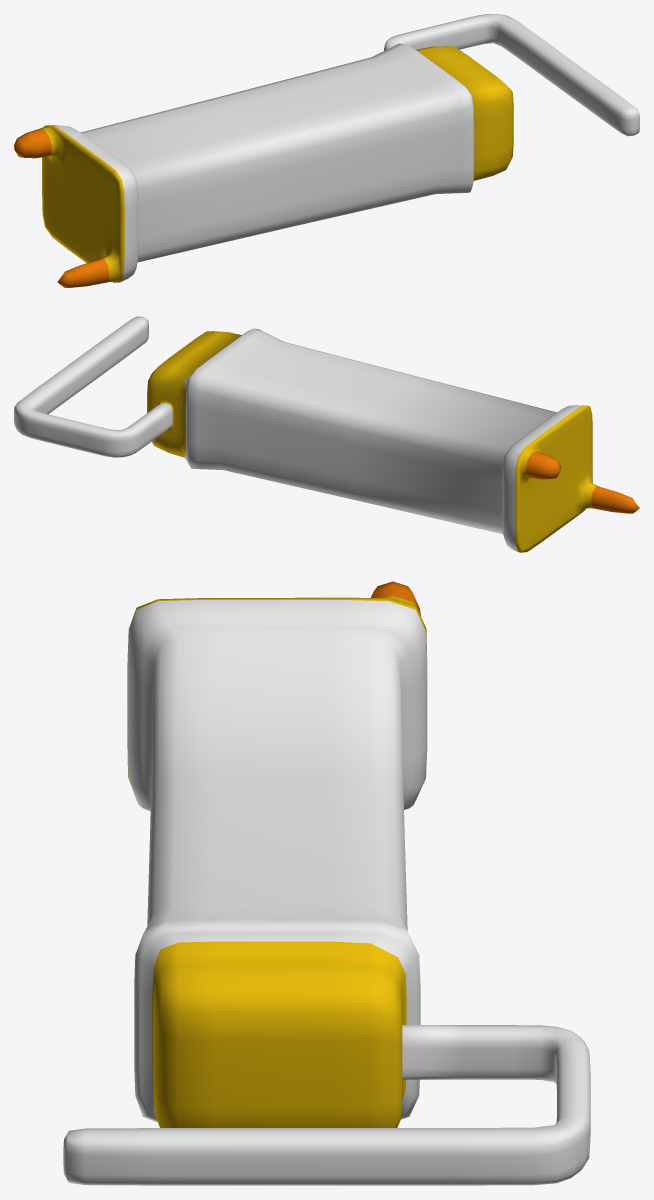
File: Fusible_1.fbx
3 views of the same model, one above another, from view 1: azimuth 30°, elevation 25°; view 2: azimuth 150°, elevation 25°; view 3: azimuth 270°, elevation 25° (orthographic). The views are drawn at different scales.
Visible parts, largest first — view 1: Fusbiles; view 2: Fusbiles; view 3: Fusbiles.
Boxes of the visible parts, x1=… form: Fusbiles: x1=14, y1=14, x2=639, y2=287; Fusbiles: x1=14, y1=316, x2=639, y2=552; Fusbiles: x1=63, y1=581, x2=590, y2=1185.
Bounding box in the file's own units: 315 × 60.2 × 136.
